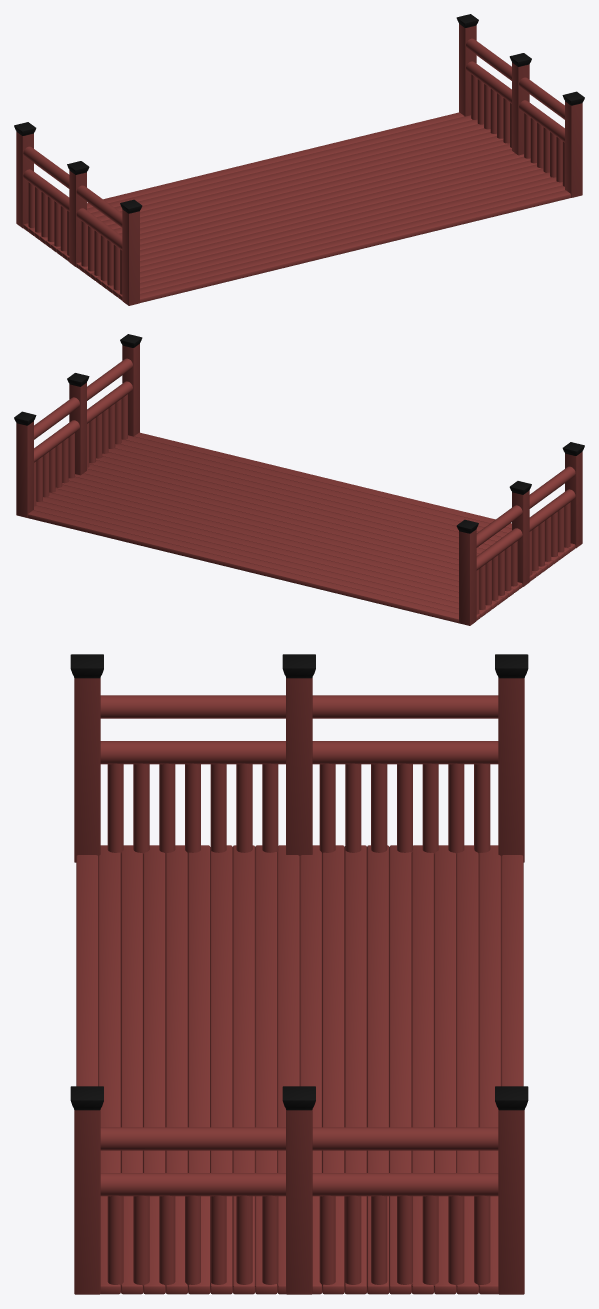
Rendered from Goal_1.fbx.
3 views of the same model, one above another, from view 1: azimuth 30°, elevation 25°; view 2: azimuth 150°, elevation 25°; view 3: azimuth 270°, elevation 25° (orthographic). The views are drawn at different scales.
Visible parts, largest first — view 1: Cube, Cylinder.001; view 2: Cube, Cylinder.001; view 3: Cube, Cylinder.001.
Part boxes in pixels (x1,y1,x2,y2): Cube: (23,112,570,302); Cylinder.001: (14,14,584,305); Cube: (28,432,575,623); Cylinder.001: (14,334,584,625); Cube: (76,845,523,1294); Cylinder.001: (70,654,528,1294).
Size of the model in its own units: 1309 by 270 by 567.
